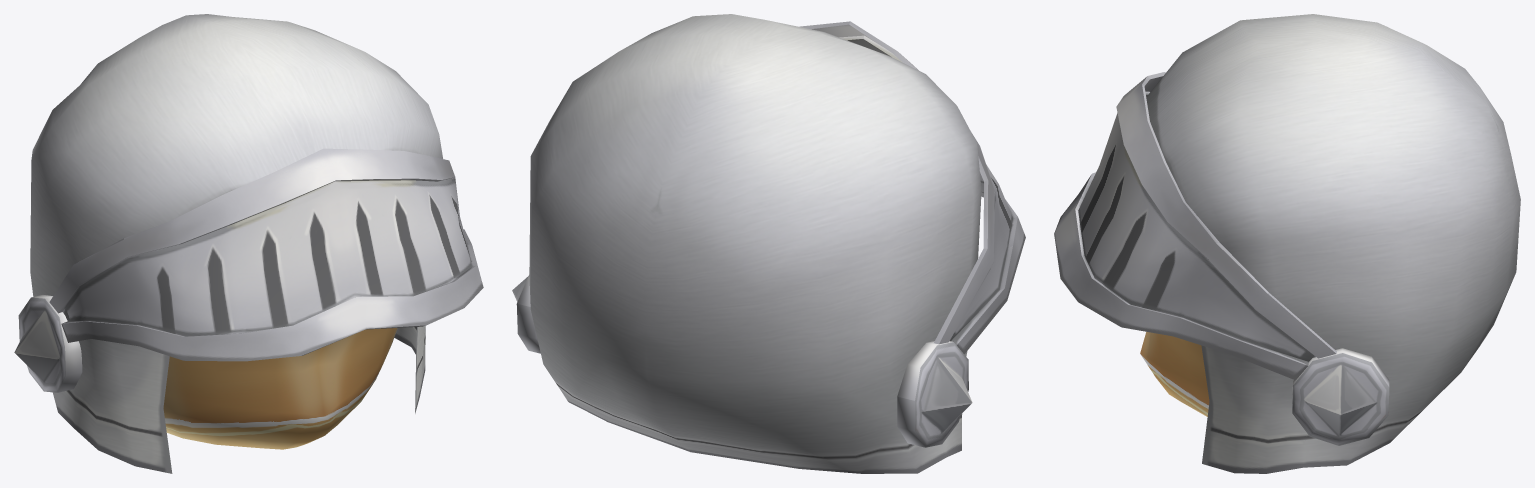
File: helmet_soldier_s helmet.FBX
3 renders of one model, left to right at view 1: azimuth 30°, elevation 25°; view 2: azimuth 150°, elevation 25°; view 3: azimuth 270°, elevation 25°, orthographic. The views are drawn at different scales.
Visible parts, largest first — view 1: Object002, Object003; view 2: Object002; view 3: Object002, Object003.
Boxes of the visible parts, <box> form: Object002: <box>14,14,483,473</box>; Object003: <box>163,328,397,449</box>; Object002: <box>512,14,1025,473</box>; Object002: <box>1054,14,1520,473</box>; Object003: <box>1140,332,1209,416</box>.
Bounding box in the file's own units: 152 × 125 × 145.
